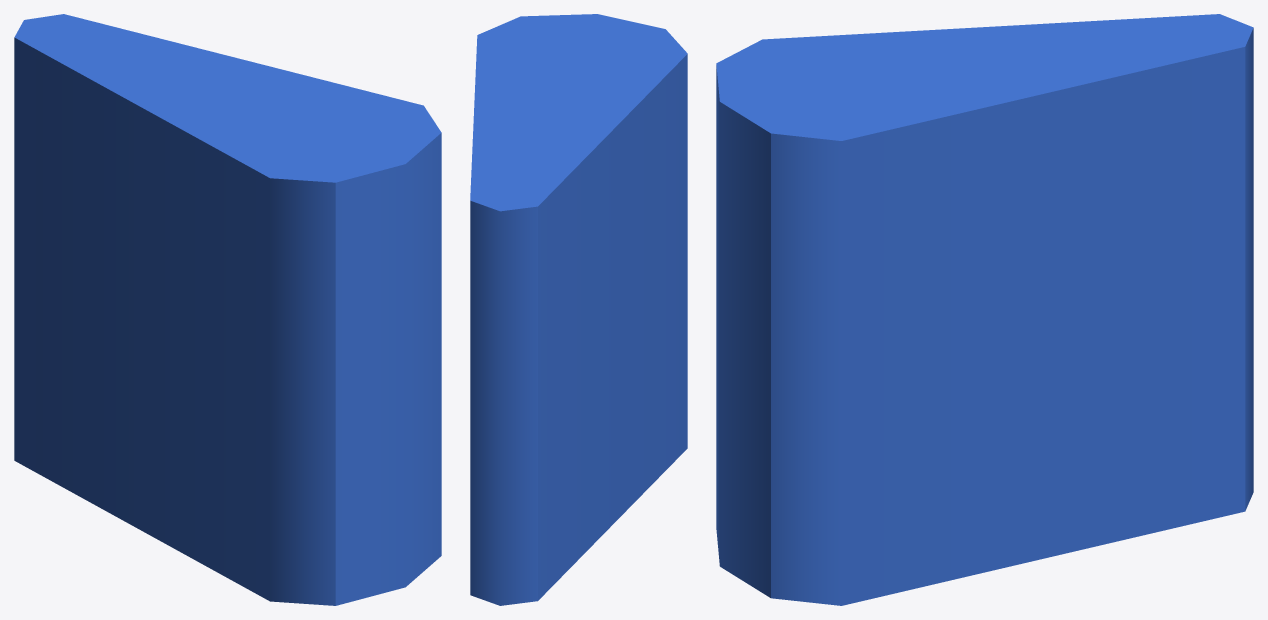
The model's file is blue_paddle_kgunn.fbx.
3 renders of one model, left to right at view 1: azimuth 30°, elevation 25°; view 2: azimuth 150°, elevation 25°; view 3: azimuth 270°, elevation 25°, orthographic. The views are drawn at different scales.
Visible parts, largest first — view 1: flipper02_GEO_TestTable01_kgunn; view 2: flipper02_GEO_TestTable01_kgunn; view 3: flipper02_GEO_TestTable01_kgunn.
Boxes of the visible parts, x1=… form: flipper02_GEO_TestTable01_kgunn: x1=14, y1=14, x2=441, y2=605; flipper02_GEO_TestTable01_kgunn: x1=470, y1=14, x2=687, y2=605; flipper02_GEO_TestTable01_kgunn: x1=716, y1=14, x2=1253, y2=605.
Bounding box in the file's own units: 58.65 × 100 × 105.
